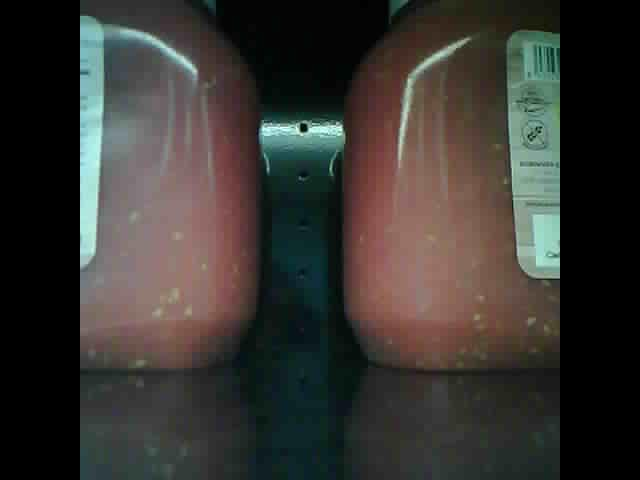tomate: (343, 3, 558, 372), (82, 3, 261, 373)
